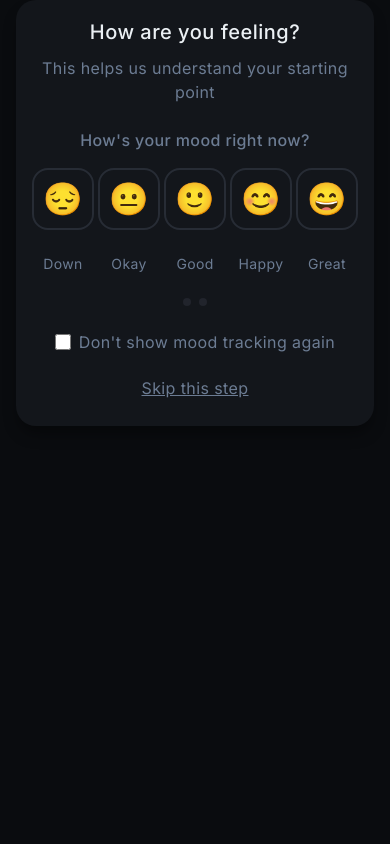
MoodTracker › advances to energy step after selecting mood
# Select mood level 4
Click the button named "Mood: Happy" at (261, 199), box [230,168,292,230]
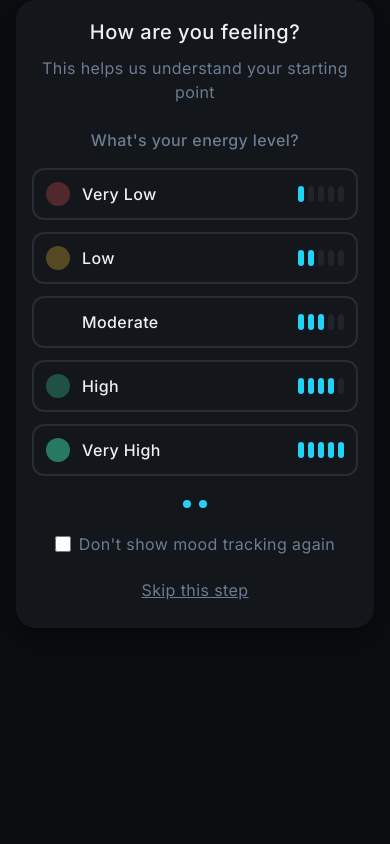
Expected: the heading "What's your energy level?" is shown, [91,130,299,150]
